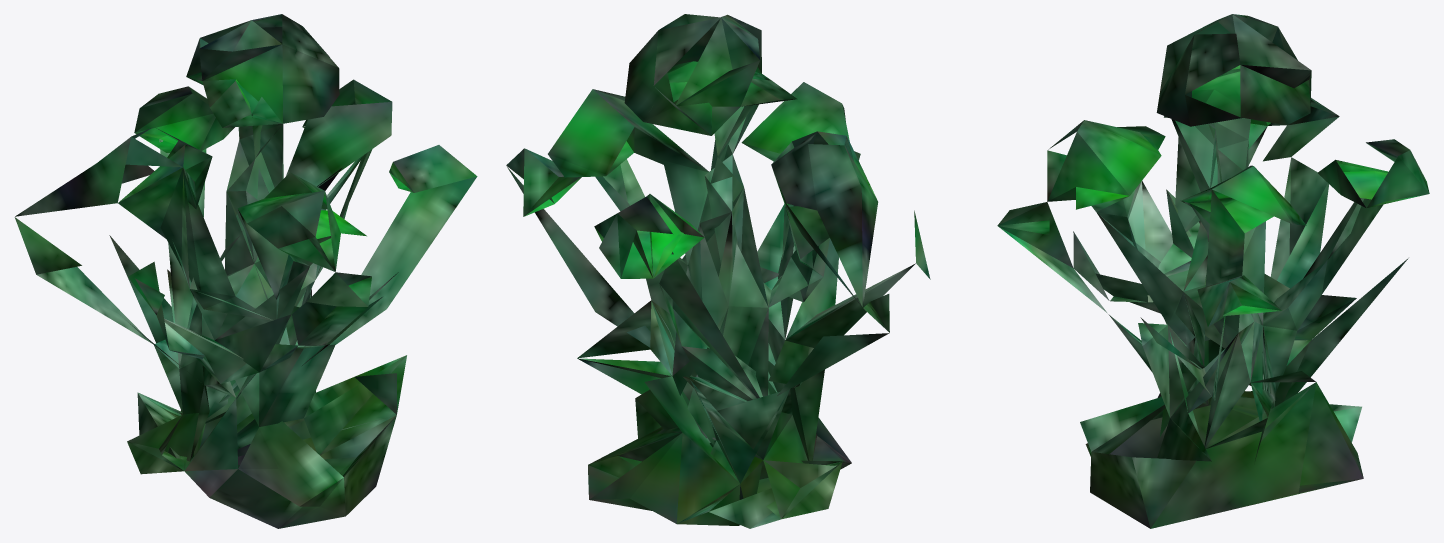
The model's file is alien_fungus_1865859791_lod1.glb.
3 views of the same model, side by side, from view 1: azimuth 30°, elevation 25°; view 2: azimuth 150°, elevation 25°; view 3: azimuth 270°, elevation 25° (orthographic). The views are drawn at different scales.
Bounding box in the file's own units: 2.2 × 2.4 × 1.99.
1 material, 1 textured.
